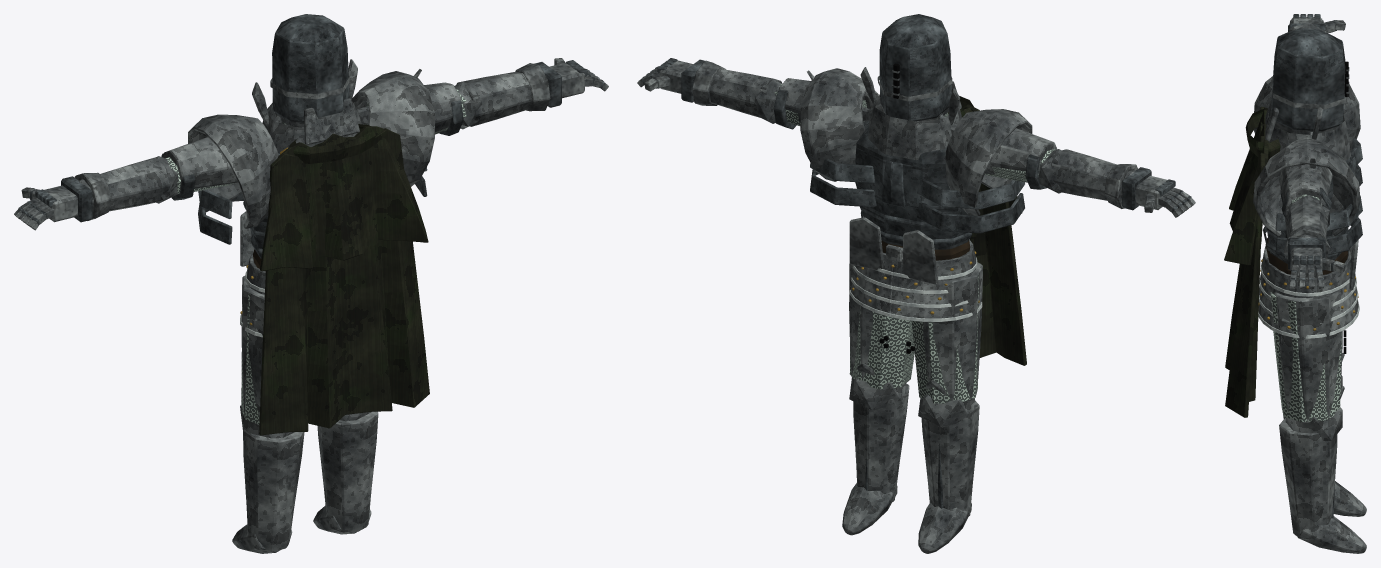
The model's file is knight_tpose.glb.
3 renders of one model, left to right at view 1: azimuth 30°, elevation 25°; view 2: azimuth 150°, elevation 25°; view 3: azimuth 270°, elevation 25°, orthographic. The views are drawn at different scales.
Visible parts, largest first — view 1: cape, cape_mantle, helm, greave_-1, greave_1, pauldron_-1, pauldron_1, vambrace_-1, vambrace_1, rerebrace_-1, cuisse_-1, gorget_back (+10 smaller); view 2: helm, cape, pauldron_1, pauldron_-1, cuirass, cuisse_-1, greave_-1, greave_1, thigh_mail_1, gorget, thigh_mail_-1, vambrace_-1 (+23 smaller); view 3: helm, cuisse_1, greave_1, cape, pauldron_1, cape_mantle, thigh_mail_1, rerebrace_1, sabaton_1, fauld_0, vambrace_1, gorget (+25 smaller).
Boxes of the visible parts, x1,y1,x2,y2 form: cape: (259, 128, 429, 435); cape_mantle: (260, 126, 428, 271); helm: (272, 14, 349, 122); greave_-1: (243, 429, 304, 551); greave_1: (317, 411, 378, 532); pauldron_-1: (188, 114, 278, 228); pauldron_1: (351, 71, 434, 186); vambrace_-1: (78, 157, 170, 211); vambrace_1: (456, 70, 544, 126); rerebrace_-1: (163, 137, 238, 189); cuisse_-1: (241, 276, 264, 424); gorget_back: (304, 98, 359, 145); helm: (879, 14, 951, 121); cape: (879, 94, 1026, 365); pauldron_1: (800, 68, 878, 181); pauldron_-1: (945, 109, 1032, 215); cuirass: (855, 120, 971, 249); cuisse_-1: (923, 262, 982, 401); greave_-1: (921, 400, 979, 516); greave_1: (853, 383, 909, 501); thigh_mail_1: (849, 305, 914, 389); gorget: (868, 95, 961, 160); thigh_mail_-1: (911, 263, 981, 403); vambrace_-1: (1051, 149, 1135, 200); helm: (1271, 28, 1345, 131); cuisse_1: (1274, 292, 1342, 422); greave_1: (1279, 417, 1337, 540); cape: (1225, 106, 1265, 417); pauldron_1: (1253, 137, 1360, 236); cape_mantle: (1224, 107, 1268, 265); thigh_mail_1: (1270, 292, 1341, 421); rerebrace_1: (1279, 164, 1332, 209); sabaton_1: (1297, 516, 1366, 553); fauld_0: (1261, 245, 1351, 293); vambrace_1: (1285, 197, 1328, 238); gorget: (1267, 113, 1351, 160).
Bounding box in the file's own units: 2.13 × 1.89 × 0.4875.
8 materials, 8 textured.
